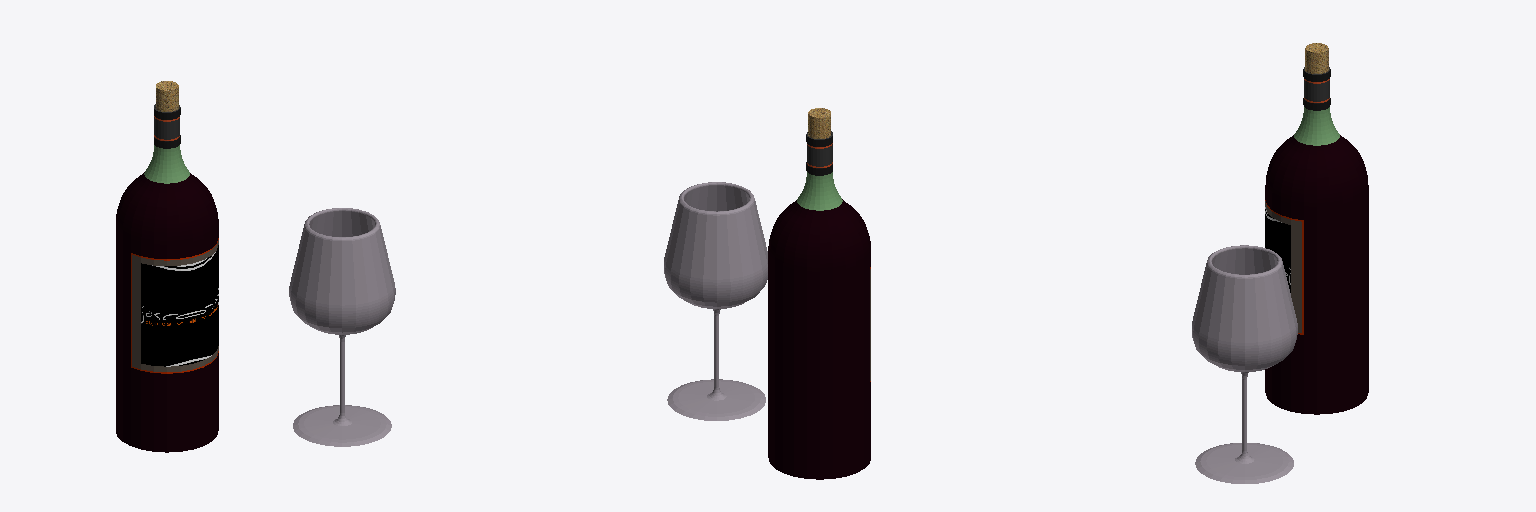
3 renders of one model, left to right at view 1: azimuth 30°, elevation 25°; view 2: azimuth 150°, elevation 25°; view 3: azimuth 270°, elevation 25°, orthographic.
Visible parts, largest first — view 1: Mesh1 Group2 Group1 Model, Mesh4 Group3 Model, Mesh3 Group1 Model, Mesh2 Group2 Group1 Model; view 2: Mesh1 Group2 Group1 Model, Mesh4 Group3 Model, Mesh2 Group2 Group1 Model; view 3: Mesh1 Group2 Group1 Model, Mesh4 Group3 Model, Mesh3 Group1 Model, Mesh2 Group2 Group1 Model.
Boxes of the visible parts, x1=… form: Mesh1 Group2 Group1 Model: x1=116, y1=104, x2=218, y2=452; Mesh4 Group3 Model: x1=289, y1=208, x2=395, y2=446; Mesh3 Group1 Model: x1=131, y1=238, x2=218, y2=373; Mesh2 Group2 Group1 Model: x1=156, y1=81, x2=178, y2=111; Mesh1 Group2 Group1 Model: x1=768, y1=131, x2=870, y2=479; Mesh4 Group3 Model: x1=664, y1=182, x2=767, y2=420; Mesh2 Group2 Group1 Model: x1=808, y1=108, x2=830, y2=138; Mesh1 Group2 Group1 Model: x1=1265, y1=67, x2=1368, y2=414; Mesh4 Group3 Model: x1=1192, y1=245, x2=1297, y2=483; Mesh3 Group1 Model: x1=1265, y1=200, x2=1303, y2=334; Mesh2 Group2 Group1 Model: x1=1305, y1=43, x2=1328, y2=73.
Size of the model in its own units: 8.57 by 12.38 by 5.71.
11 materials, 2 textured.